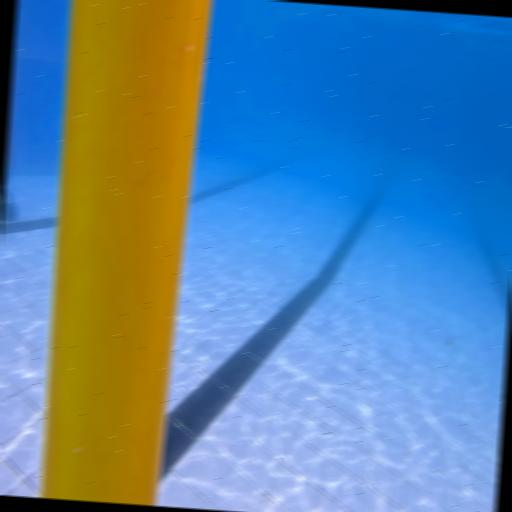pole_gate: (36, 0, 213, 507)
